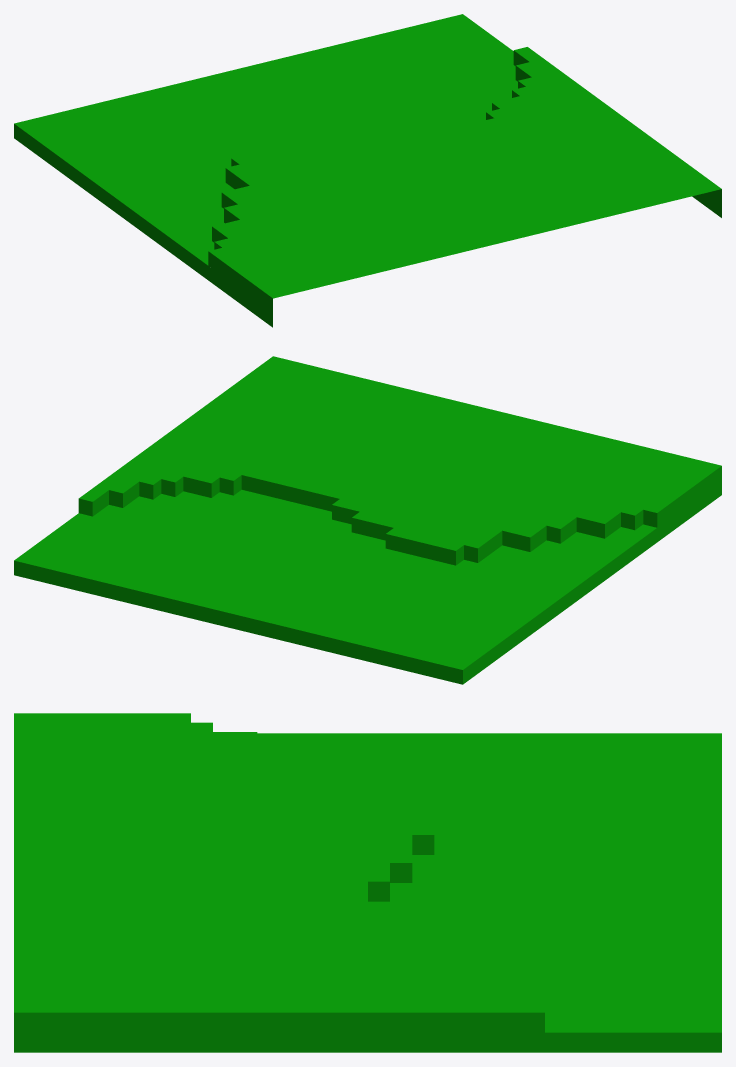
The model's file is Slant4.fbx.
3 views of the same model, one above another, from view 1: azimuth 30°, elevation 25°; view 2: azimuth 150°, elevation 25°; view 3: azimuth 270°, elevation 25° (orthographic). The views are drawn at different scales.
Visible parts, largest first — view 1: Matrix; view 2: Matrix; view 3: Matrix.
Boxes of the visible parts, bbox=[...] form: Matrix: bbox=[14, 14, 721, 327]; Matrix: bbox=[14, 356, 721, 684]; Matrix: bbox=[14, 713, 721, 1052].
Bounding box in the file's own units: 32 × 2 × 32.
Materials: 1 (1 with a texture image).
